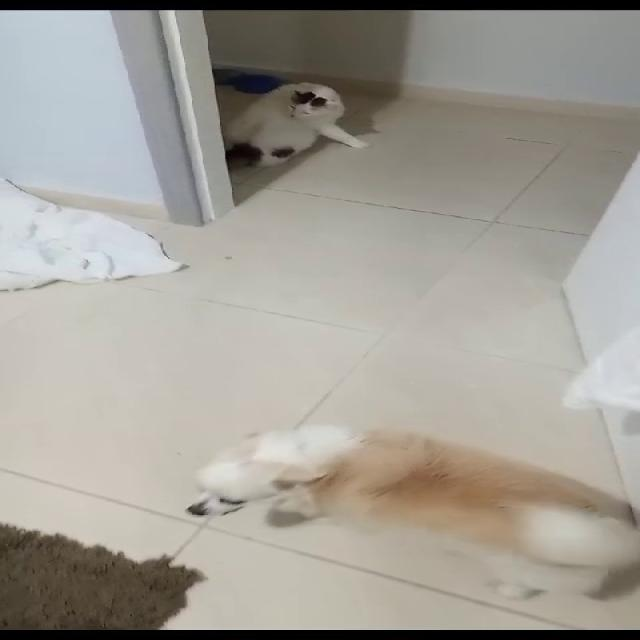Simba: (207, 65, 396, 195)
Theo: (172, 412, 639, 632)
